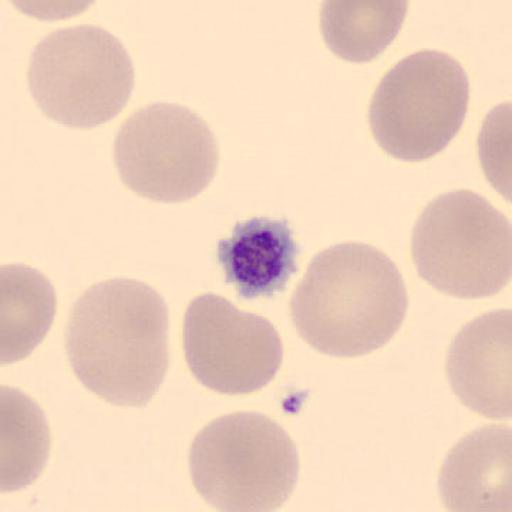Platelet: (215, 214, 303, 301)
RBC: (287, 238, 411, 360), (64, 274, 172, 411), (24, 21, 137, 131), (366, 48, 472, 164), (408, 187, 512, 301), (187, 410, 302, 511), (111, 100, 220, 206), (180, 290, 285, 397), (443, 307, 512, 420), (436, 421, 512, 512), (318, 0, 410, 65), (2, 260, 58, 366), (2, 384, 52, 494), (476, 98, 512, 207), (6, 0, 106, 23)
